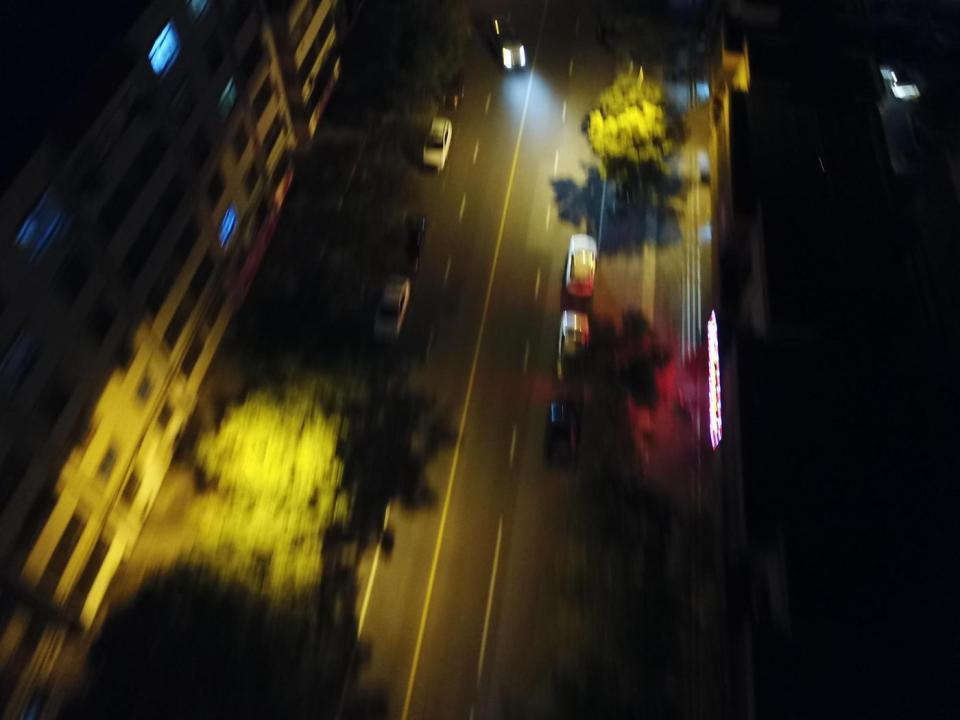car: (371, 272, 410, 342), (543, 400, 580, 470), (557, 309, 590, 382), (390, 208, 426, 272), (485, 14, 526, 70), (564, 234, 596, 298), (422, 117, 451, 170), (604, 164, 633, 216), (436, 57, 464, 110)
